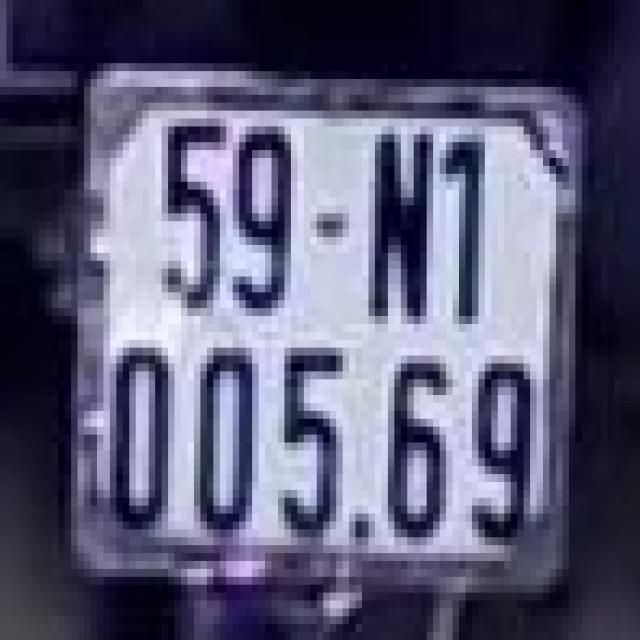0: (97, 332, 181, 545), (184, 332, 268, 545)
1: (440, 118, 498, 332)
5: (275, 336, 352, 549), (149, 107, 226, 312)
6: (378, 352, 456, 565)
9: (459, 348, 543, 553), (223, 114, 301, 328)
N: (362, 115, 440, 352)
